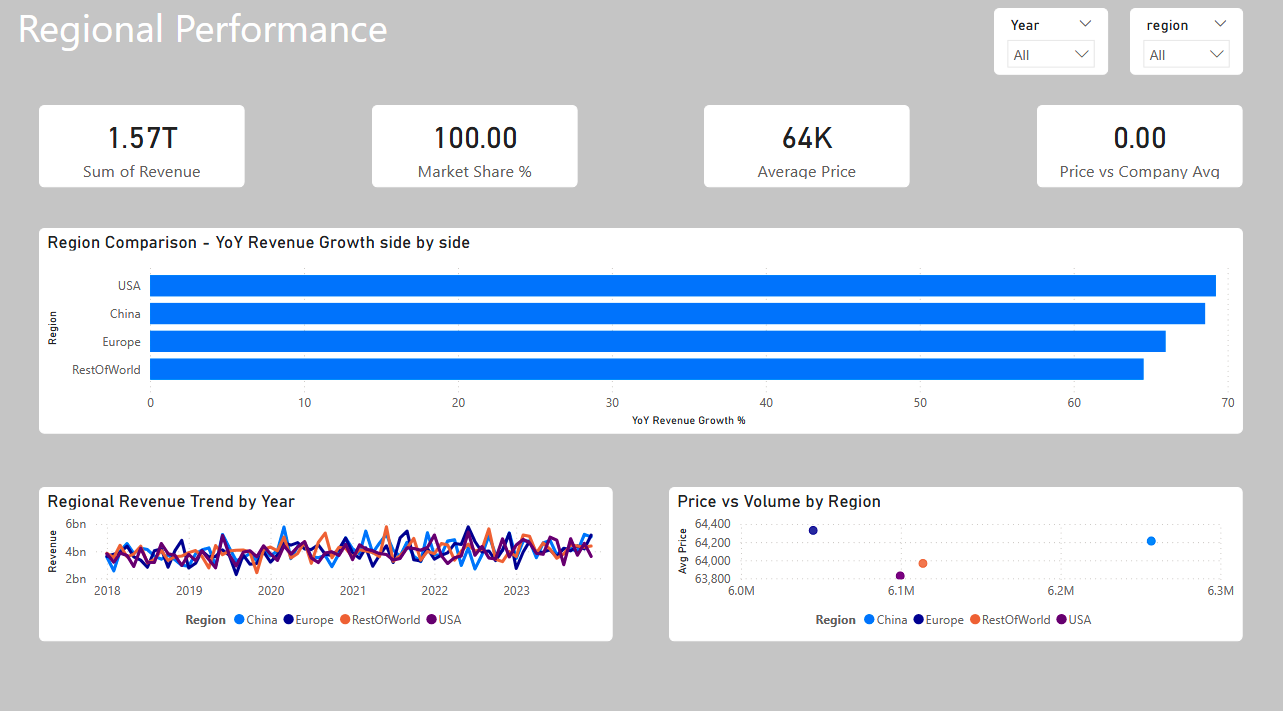

What the dashboard file says about the page in this screenshot:
{"tool":"powerbi","page":{"name":"Regional Performance","canvas":[1280,720],"ordinal":2},"visuals":[{"type":"card","fields":{"Values":["Sum(public bmw_data.revenue_eur)"]},"box":[46.7,115.7,200,80],"z":0},{"type":"card","fields":{"Values":["public bmw_data.Market Share %"]},"box":[370.3,115.7,200,80],"z":1000},{"type":"card","fields":{"Values":["public bmw_data.Avg Price"]},"box":[693.8,115.7,200,80],"z":2000},{"type":"card","fields":{"Values":["Date.Price vs Company Avg"]},"box":[1017.4,115.7,200,80],"z":3000},{"type":"clusteredBarChart","title":"Region Comparison - YoY Revenue Growth side by side","fields":{"Category":["public bmw_data.region"],"Y":["public bmw_data.1YoY Revenue Growth %"]},"box":[46.7,235.4,1171.1,200.4],"z":4000},{"type":"lineChart","title":"Regional Revenue Trend by Year","fields":{"Y":["public bmw_data.Total Revenue"],"Series":["public bmw_data.region"],"Category":["Date.Date.Variation.Date Hierarchy.Year","Date.Date.Variation.Date Hierarchy.Quarter","Date.Date.Variation.Date Hierarchy.Month","Date.Date.Variation.Date Hierarchy.Day"]},"box":[46.7,487.3,558,149.8],"z":5000},{"type":"scatterChart","title":"Price vs Volume by Region","fields":{"X":["public bmw_data.Total Units"],"Y":["public bmw_data.Avg Price"],"Size":["public bmw_data.Total Revenue"],"Series":["public bmw_data.region"]},"box":[659.5,487.3,558.3,149.8],"z":6000},{"type":"slicer","fields":{"Values":["public bmw_data.region"]},"box":[1107.8,21.4,110,65],"z":7000},{"type":"slicer","fields":{"Values":["Date.Date.Variation.Date Hierarchy.Year"]},"box":[975.6,21.4,110.9,65.2],"z":8000},{"type":"textbox","box":[20.4,9.7,417.3,114.8],"z":9000}]}

Visuals, with their boxes in screenshot pixels (x1, y1, x2, y2), scaled from the page's 1280x720 canvas onto the 1283x711 screenshot:
card - Sum(public bmw_data.revenue_eur): box=[47, 114, 247, 193]
card - public bmw_data.Market Share %: box=[371, 114, 572, 193]
card - public bmw_data.Avg Price: box=[695, 114, 896, 193]
card - Date.Price vs Company Avg: box=[1020, 114, 1220, 193]
"Region Comparison - YoY Revenue Growth side by side" clusteredBarChart: box=[47, 232, 1221, 430]
"Regional Revenue Trend by Year" lineChart: box=[47, 481, 606, 629]
"Price vs Volume by Region" scatterChart: box=[661, 481, 1221, 629]
slicer - public bmw_data.region: box=[1110, 21, 1221, 85]
slicer - Date.Date.Variation.Date Hierarchy.Year: box=[978, 21, 1089, 86]
textbox: box=[20, 10, 439, 123]
